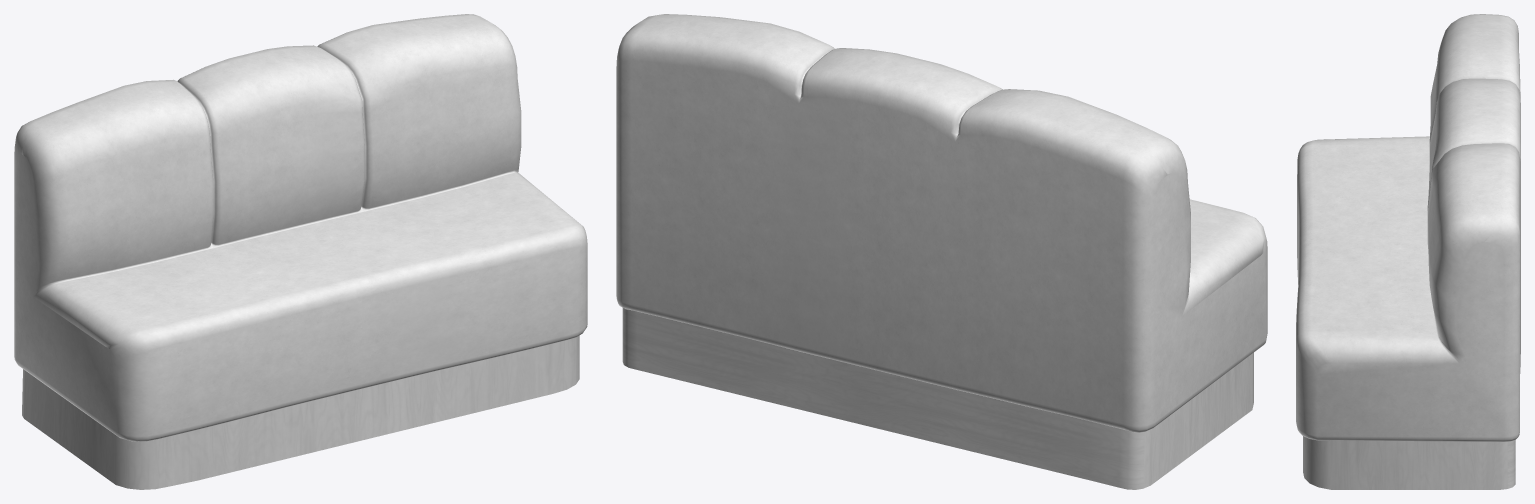
The model's file is Sofa01_4.FBX.
3 renders of one model, left to right at view 1: azimuth 30°, elevation 25°; view 2: azimuth 150°, elevation 25°; view 3: azimuth 270°, elevation 25°, orthographic. The views are drawn at different scales.
Parts seen in each view (by area): view 1: Sofa01_4; view 2: Sofa01_4; view 3: Sofa01_4.
Part boxes in pixels (x1,y1,x2,y2): Sofa01_4: [14, 14, 587, 489]; Sofa01_4: [616, 14, 1267, 489]; Sofa01_4: [1296, 14, 1520, 489].
Bounding box in the file's own units: 1998 × 1220 × 880.
